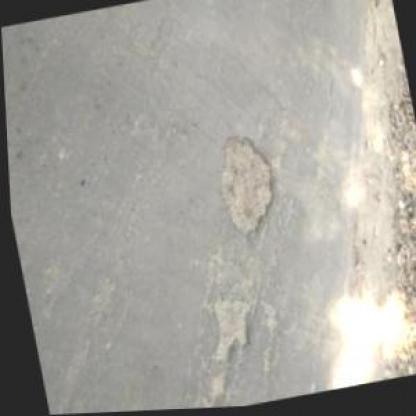pothole: (206, 131, 282, 242), (194, 293, 258, 366)
